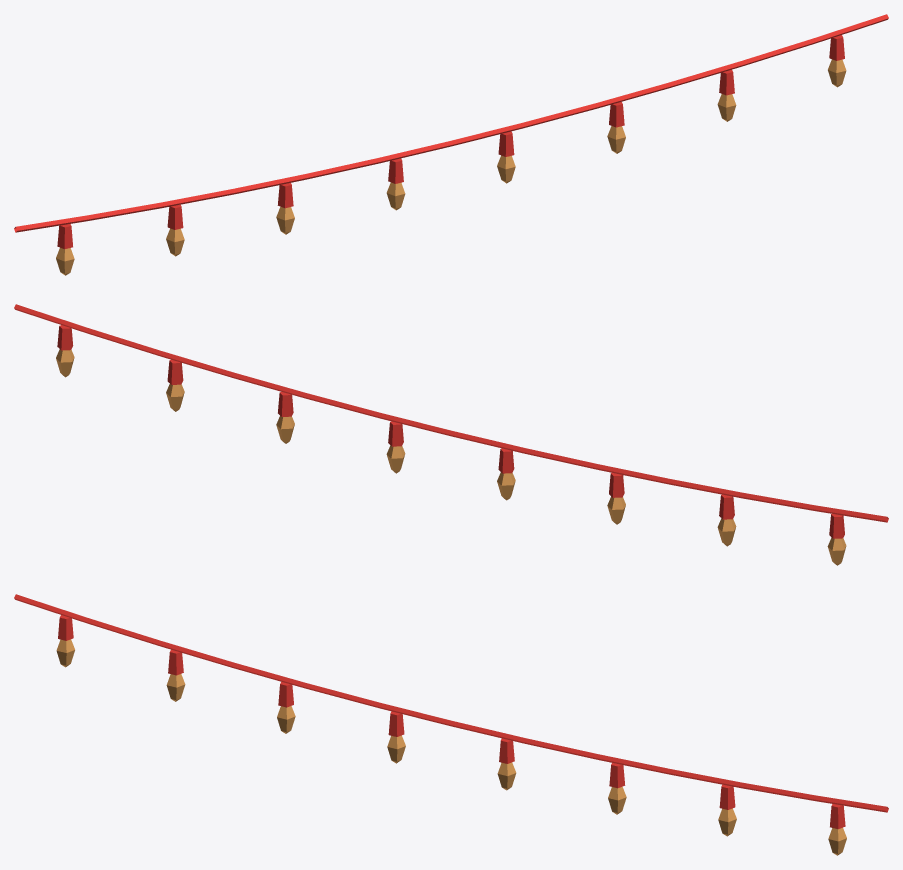
File: SM_Light_String_Color_Big_2m_Christmas.fbx
3 views of the same model, one above another, from view 1: azimuth 30°, elevation 25°; view 2: azimuth 150°, elevation 25°; view 3: azimuth 330°, elevation 25° (orthographic).
Visible parts, largest first — view 1: light-string-color-big-2m-christmas; view 2: light-string-color-big-2m-christmas; view 3: light-string-color-big-2m-christmas.
Part boxes in pixels (x1,y1,x2,y2): light-string-color-big-2m-christmas: (14,14,888,275); light-string-color-big-2m-christmas: (14,304,888,565); light-string-color-big-2m-christmas: (14,594,888,855).
Bounding box in the file's own units: 2 × 0.168 × 0.0357.
